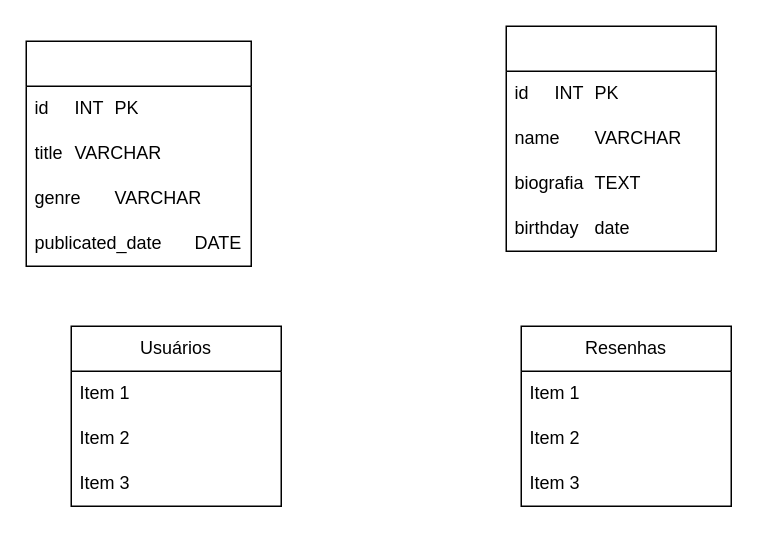
Some shapes in this 758 by 533 pixel diagram are drawn without their labels. Here are the shapes that lost their labels. From the top down, the box of each, then its label:
(25, 40, 251, 266): Livros
(505, 25, 716, 251): Autores
